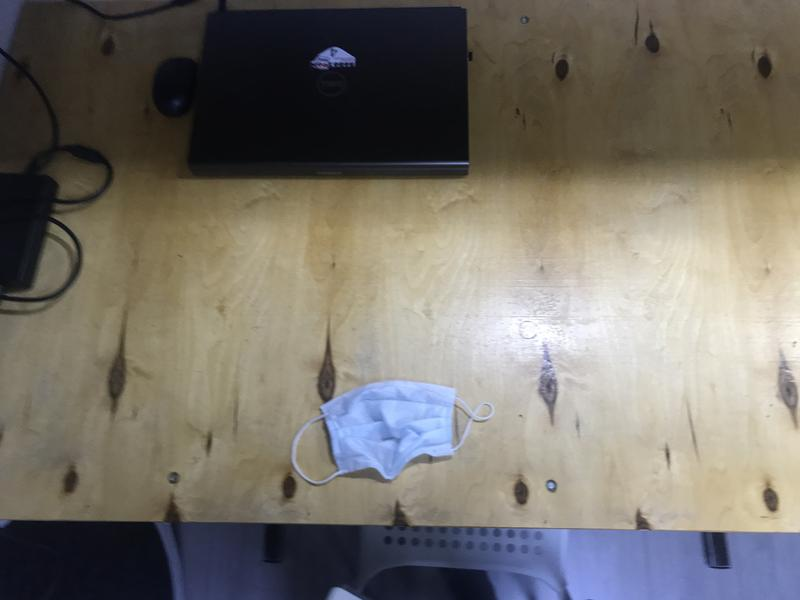medical_mask: (291, 379, 493, 484)
